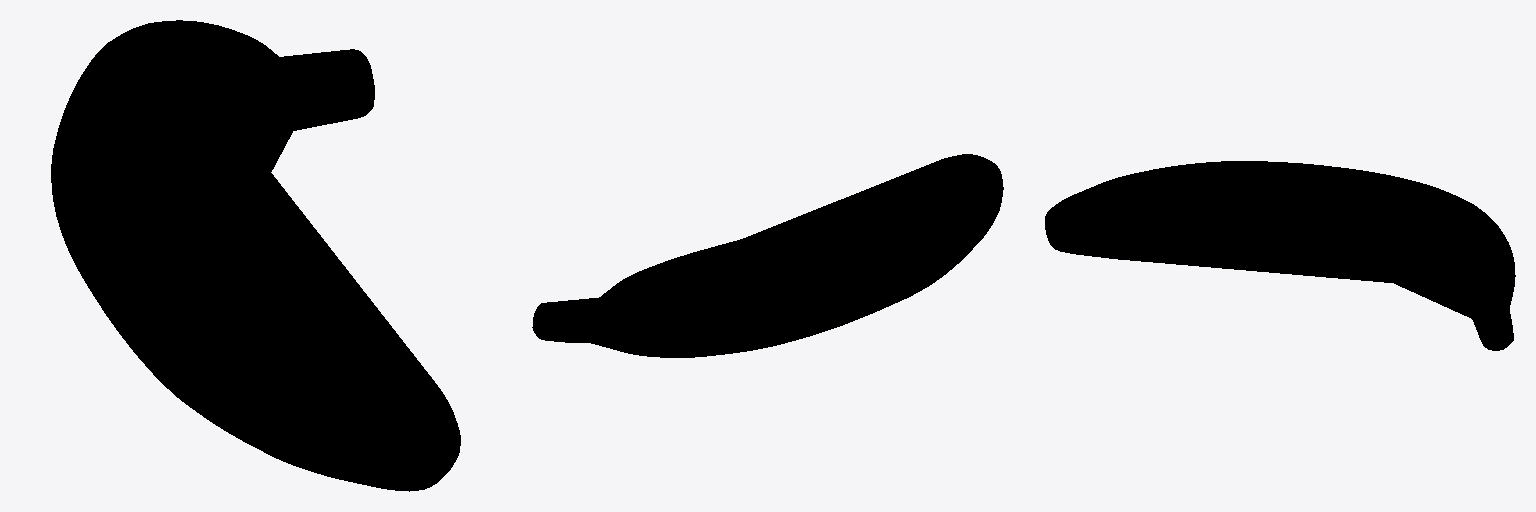
The robot description file, URDF, robot "graspnet-005":

<robot name="graspnet-005">
  <link name="link_graspnet-005">
    <inertial>
      <origin xyz="0 0 0" rpy="0 0 0"/>
    </inertial>
    <visual>
      <origin xyz="0 0 0" rpy="0 0 0"/>
      <geometry>
        <mesh filename="decomposed.obj"/>
      </geometry>
      <material name="">
        <color rgba="0 0 0 1"/>
      </material>
    </visual>
    <collision>
      <origin xyz="0 0 0" rpy="0 0 0"/>
      <geometry>
        <mesh filename="decomposed.obj"/>
      </geometry>
    </collision>
  </link>
</robot>

--- What the picture shows (computed from the rendered views, not written in the file) ---
The picture shows the robot from 3 angles, left to right: view 1: azimuth 30°, elevation 25°; view 2: azimuth 150°, elevation 25°; view 3: azimuth 270°, elevation 25°; orthographic projection.
Robot: graspnet-005 — 1 links, 0 joints (none); root link link_graspnet-005; default pose: every joint at zero.
Links seen in each view (by area): view 1: link_graspnet-005; view 2: link_graspnet-005; view 3: link_graspnet-005.
Link boxes in pixels (<box>): link_graspnet-005: <box>51,20,460,491</box>; link_graspnet-005: <box>532,154,1003,357</box>; link_graspnet-005: <box>1045,161,1515,350</box>.
Bounding box of the posed robot: 0.1107 × 0.1802 × 0.0385 m (x, y, z).
Meshes: 1 distinct files referenced, 1 mesh visuals loaded (1 OBJ).
